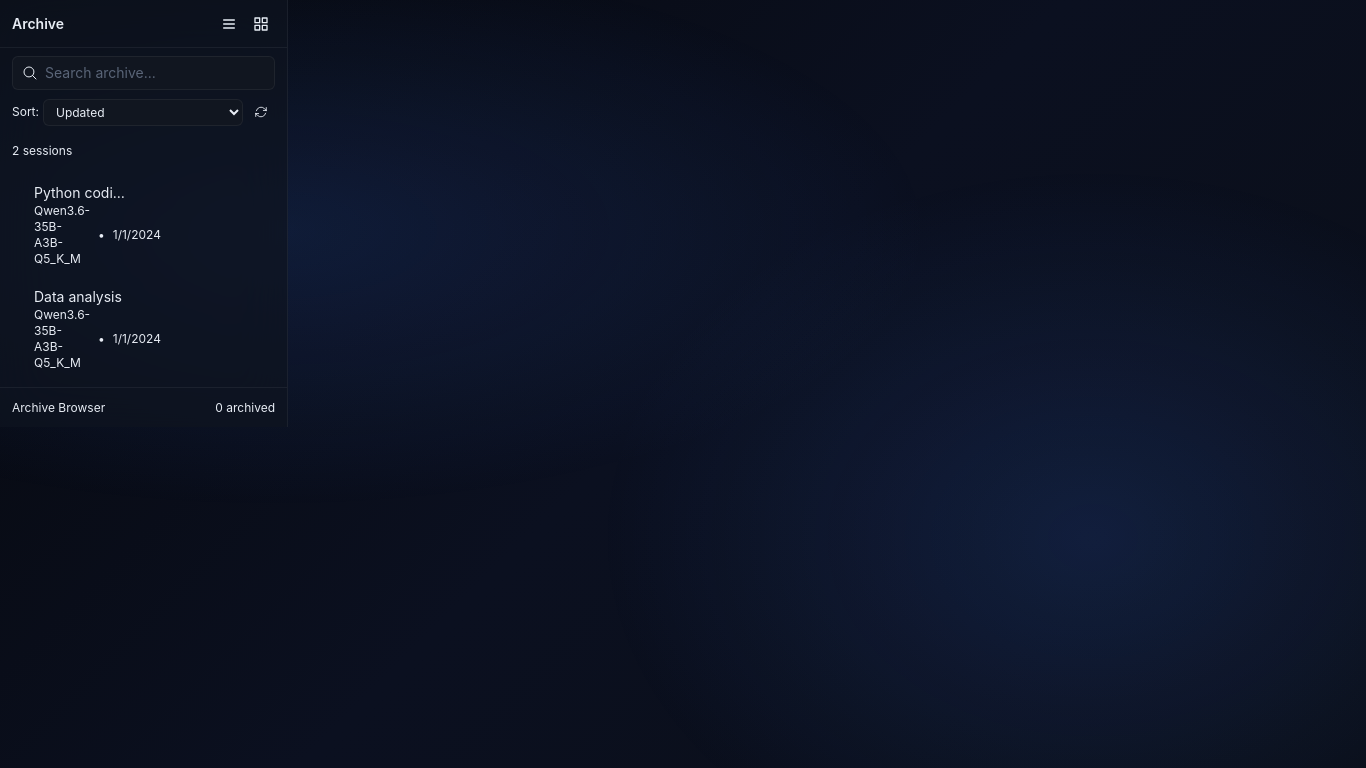
Test: ArchiveBrowser › search › clears filter when search is cleared
Type "python" into the field with placeholder "Search archive...".
click(144, 73); type("python")  # box [12,56,275,90]
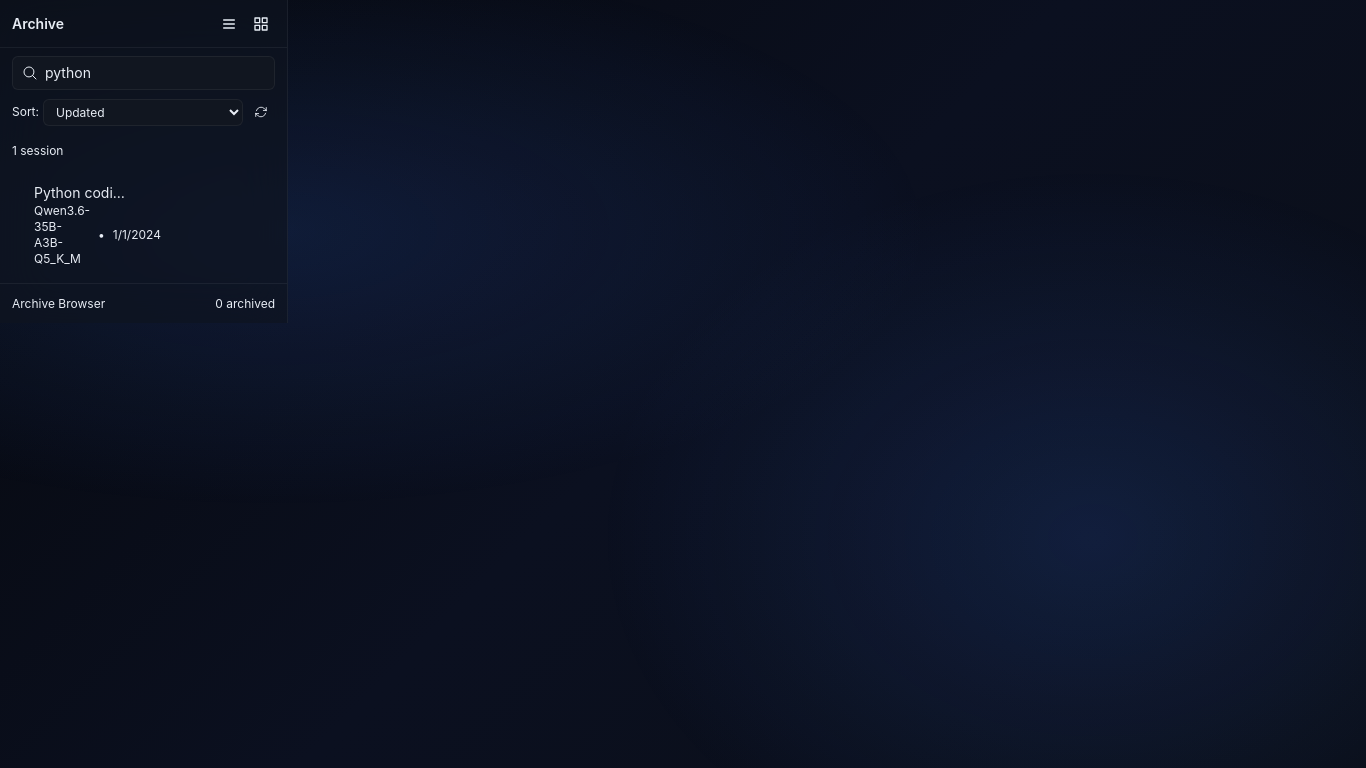
Expected: the text "Data analysis" is gone
Clear search
Clear the field with placeholder "Search archive..." at (144, 73), box [12,56,275,90]
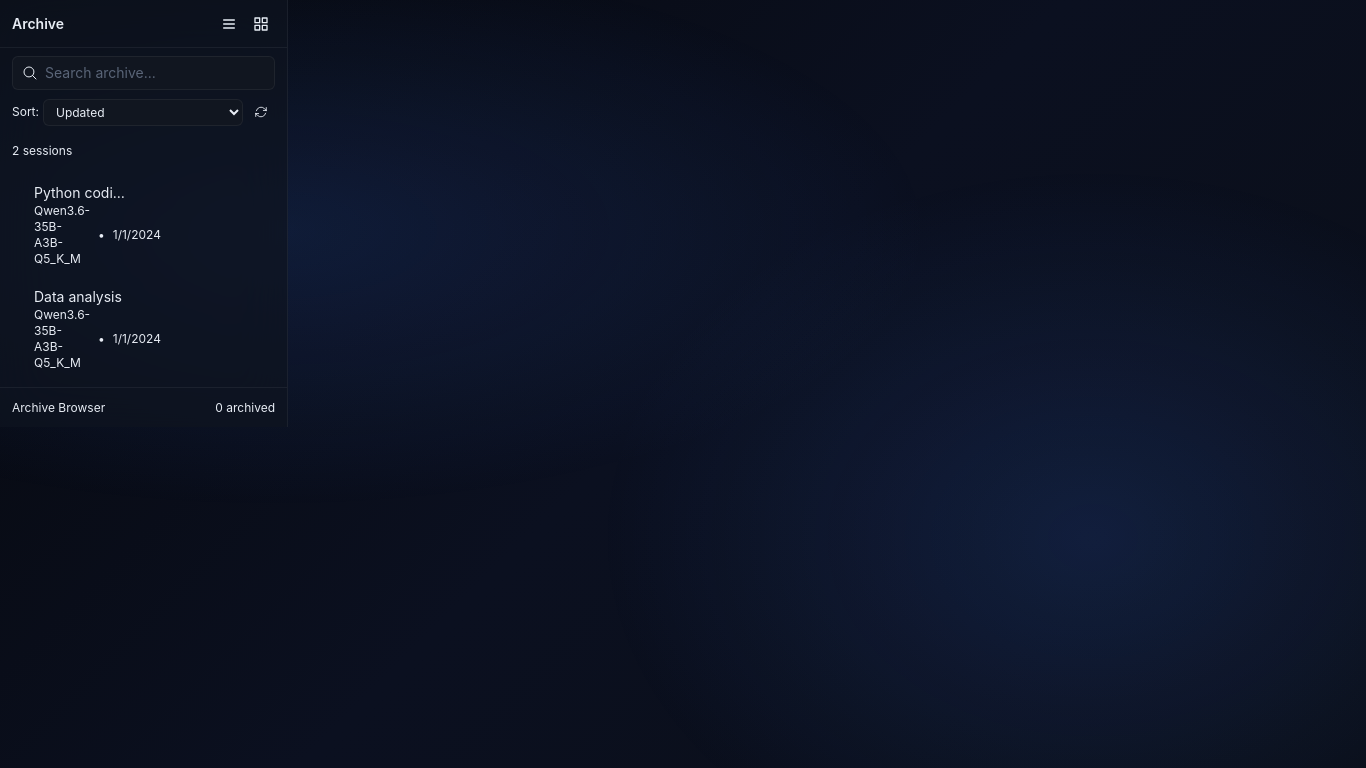
Expected: the text "Data analysis" is shown, [34,287,131,307]
